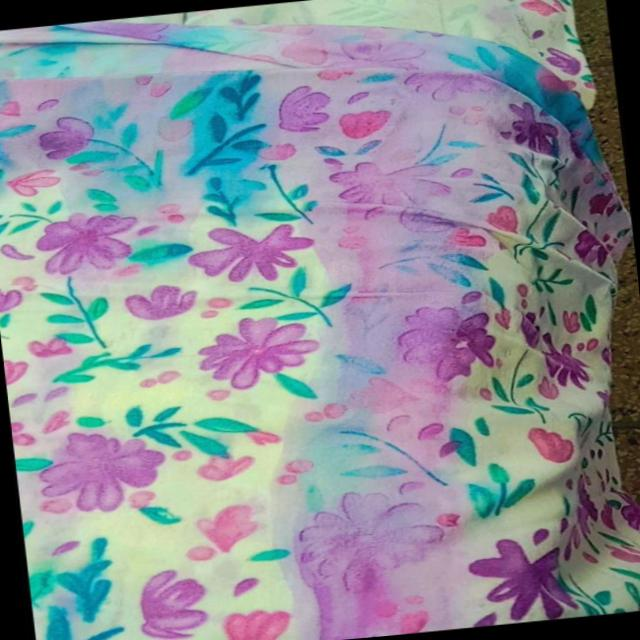baekra: (187, 0, 623, 640), (0, 51, 233, 523), (24, 536, 148, 640)
